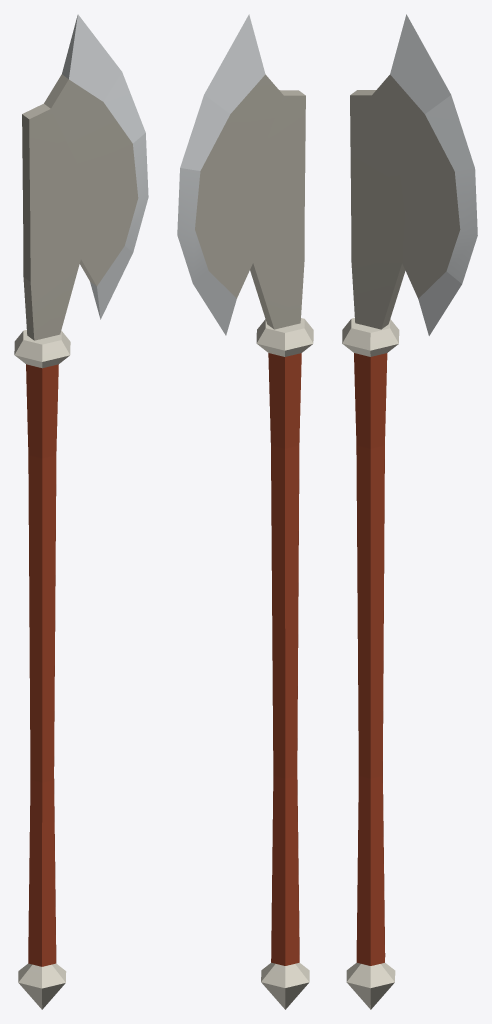
Rendered from Weapon_G.fbx.
3 renders of one model, left to right at view 1: azimuth 30°, elevation 25°; view 2: azimuth 210°, elevation 25°; view 3: azimuth 330°, elevation 25°, orthographic.
Visible parts, largest first — view 1: Weapon_G; view 2: Weapon_G; view 3: Weapon_G.
Boxes of the visible parts, left/top/right/bottom form: Weapon_G: left=14, top=14, right=148, bottom=1009; Weapon_G: left=177, top=14, right=313, bottom=1009; Weapon_G: left=342, top=14, right=477, bottom=1009.
Size of the model in its own units: 27.9 by 197 by 10.16.
